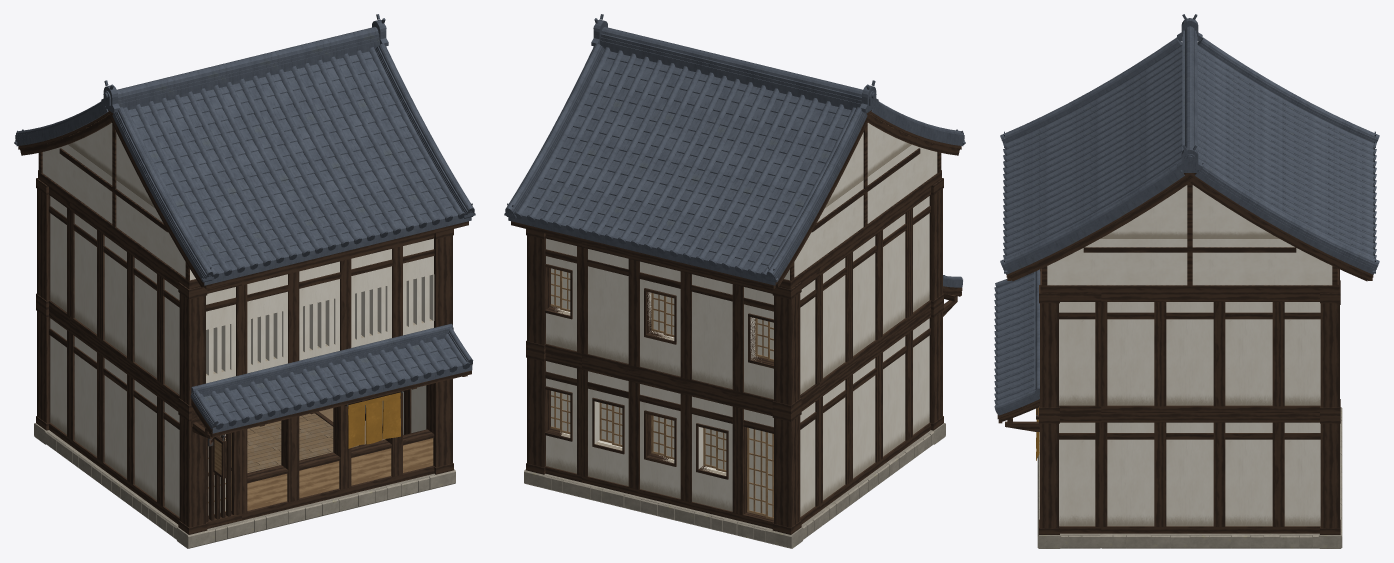
Rendered from HO_Bldg_Machiya_D.fbx.
The picture shows the model from 3 angles, left to right: view 1: azimuth 30°, elevation 25°; view 2: azimuth 150°, elevation 25°; view 3: azimuth 270°, elevation 25°; orthographic projection.
Visible parts, largest first — view 1: HO_Bldg_Machiya_D_RoofTiles, HO_Bldg_Machiya_D_Structure__Timber_Dark, HO_Bldg_Machiya_D_Structure__Plaster_White, HO_Bldg_Machiya_D_Front__RoofTile_Clay, HO_Bldg_Machiya_D_RoofFrame__Plaster_White, HO_Bldg_Machiya_D_Structure__Stone_Granite, HO_Bldg_Machiya_D_RoofFrame__Timber_Dark, HO_Bldg_Machiya_D_Structure__Timber_Light, HO_Bldg_Machiya_D_Interior__Wood_Planks, HO_Bldg_Machiya_D_Front__Cloth_Ochre, HO_Bldg_Machiya_D_Front__Timber_Dark; view 2: HO_Bldg_Machiya_D_RoofTiles, HO_Bldg_Machiya_D_Structure__Timber_Dark, HO_Bldg_Machiya_D_Structure__Plaster_White, HO_Bldg_Machiya_D_RoofFrame__Plaster_White, HO_Bldg_Machiya_D_Structure__Stone_Granite, HO_Bldg_Machiya_D_RoofFrame__Timber_Dark, HO_Bldg_Machiya_D_Structure__Shoji_Paper, HO_Bldg_Machiya_D_Structure__Timber_Light, HO_Bldg_Machiya_D_Door2__Shoji_Paper, HO_Bldg_Machiya_D_Door2__Timber_Light; view 3: HO_Bldg_Machiya_D_RoofTiles, HO_Bldg_Machiya_D_Structure__Plaster_White, HO_Bldg_Machiya_D_Structure__Timber_Dark, HO_Bldg_Machiya_D_RoofFrame__Plaster_White, HO_Bldg_Machiya_D_RoofFrame__Timber_Dark, HO_Bldg_Machiya_D_Front__RoofTile_Clay, HO_Bldg_Machiya_D_Structure__Stone_Granite, HO_Bldg_Machiya_D_Front__Timber_Dark.
Boxes of the visible parts, x1,y1,x2,y2 form: HO_Bldg_Machiya_D_RoofTiles: (14,14,475,285); HO_Bldg_Machiya_D_Structure__Timber_Dark: (36,178,453,534); HO_Bldg_Machiya_D_Structure__Plaster_White: (50,196,434,516); HO_Bldg_Machiya_D_Front__RoofTile_Clay: (190,323,473,433); HO_Bldg_Machiya_D_RoofFrame__Plaster_White: (42,123,195,280); HO_Bldg_Machiya_D_Structure__Stone_Granite: (34,423,455,548); HO_Bldg_Machiya_D_RoofFrame__Timber_Dark: (18,110,468,289); HO_Bldg_Machiya_D_Structure__Timber_Light: (208,433,433,515); HO_Bldg_Machiya_D_Interior__Wood_Planks: (247,413,358,472); HO_Bldg_Machiya_D_Front__Cloth_Ochre: (347,392,400,448); HO_Bldg_Machiya_D_Front__Timber_Dark: (191,363,472,478); HO_Bldg_Machiya_D_RoofTiles: (504,14,965,285); HO_Bldg_Machiya_D_Structure__Timber_Dark: (526,178,943,534); HO_Bldg_Machiya_D_Structure__Plaster_White: (546,196,929,516); HO_Bldg_Machiya_D_RoofFrame__Plaster_White: (784,123,937,280); HO_Bldg_Machiya_D_Structure__Stone_Granite: (524,423,945,548); HO_Bldg_Machiya_D_RoofFrame__Timber_Dark: (511,110,961,289); HO_Bldg_Machiya_D_Structure__Shoji_Paper: (551,268,773,469); HO_Bldg_Machiya_D_Structure__Timber_Light: (550,269,773,472); HO_Bldg_Machiya_D_Door2__Shoji_Paper: (749,428,765,513); HO_Bldg_Machiya_D_Door2__Timber_Light: (747,427,765,516); HO_Bldg_Machiya_D_RoofTiles: (1000,14,1379,274); HO_Bldg_Machiya_D_Structure__Plaster_White: (1059,302,1320,526); HO_Bldg_Machiya_D_Structure__Timber_Dark: (1039,269,1340,534); HO_Bldg_Machiya_D_RoofFrame__Plaster_White: (1047,185,1332,285); HO_Bldg_Machiya_D_RoofFrame__Timber_Dark: (1006,173,1373,293); HO_Bldg_Machiya_D_Front__RoofTile_Clay: (994,269,1040,415); HO_Bldg_Machiya_D_Structure__Stone_Granite: (1037,407,1342,548); HO_Bldg_Machiya_D_Front__Timber_Dark: (997,395,1039,431).
Bounding box in the file's own units: 21.54 × 30.22 × 26.07.
